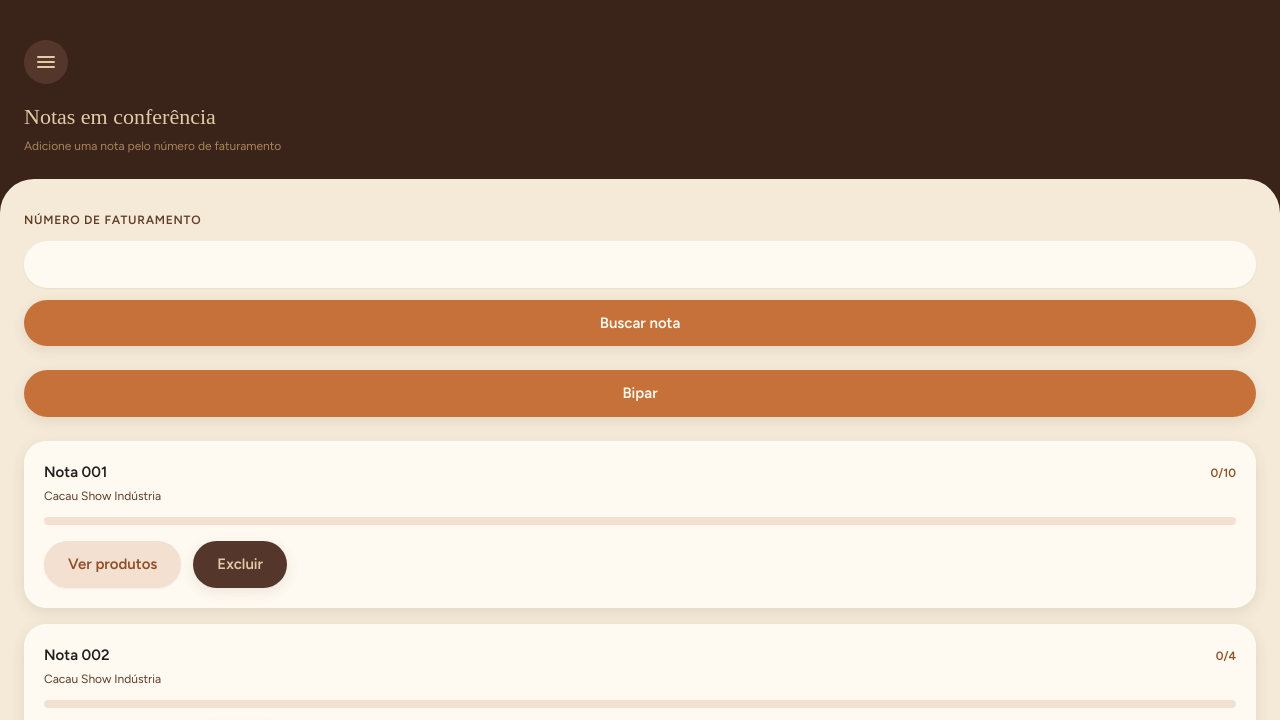
NotesQueueScreen › UT-042b: nota excluída some da fila mesmo se o recarregamento falhar
Check: the text "Nota 001" is shown, box [44, 460, 107, 483]
Click the button "Excluir": (240, 564) [193, 541, 287, 588]
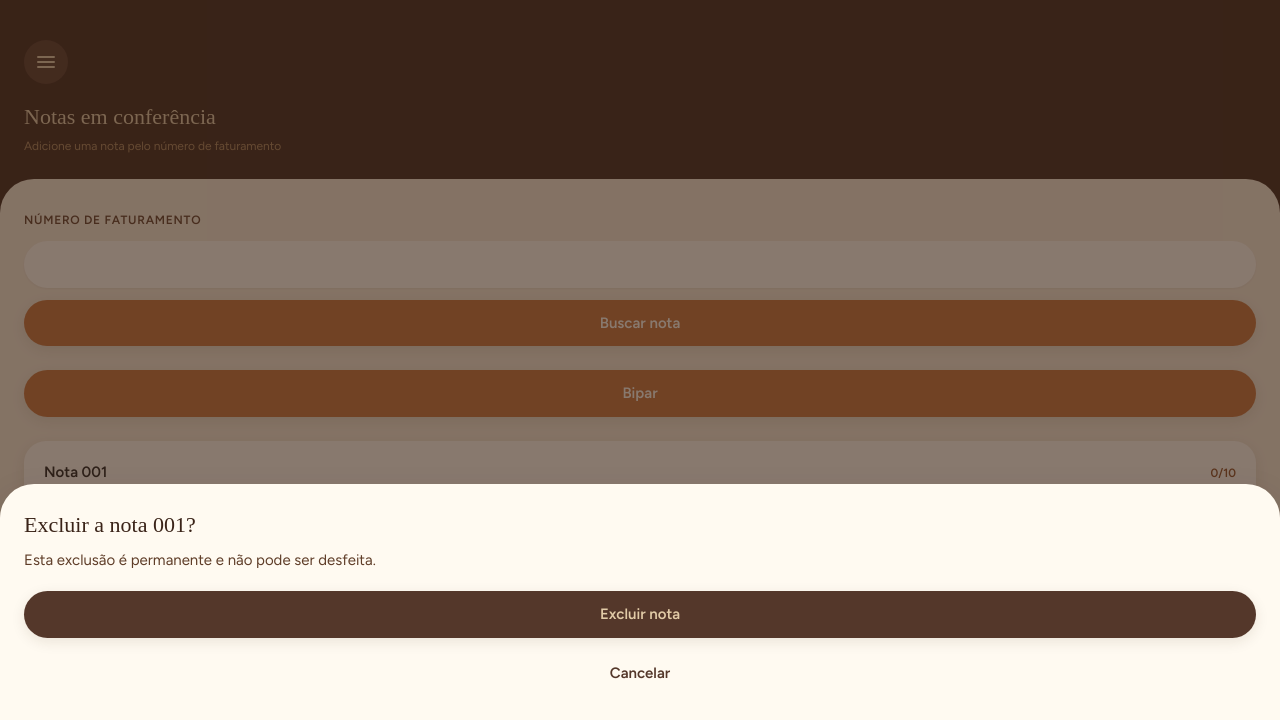
Click the button "Excluir nota": (640, 614) [24, 591, 1256, 638]
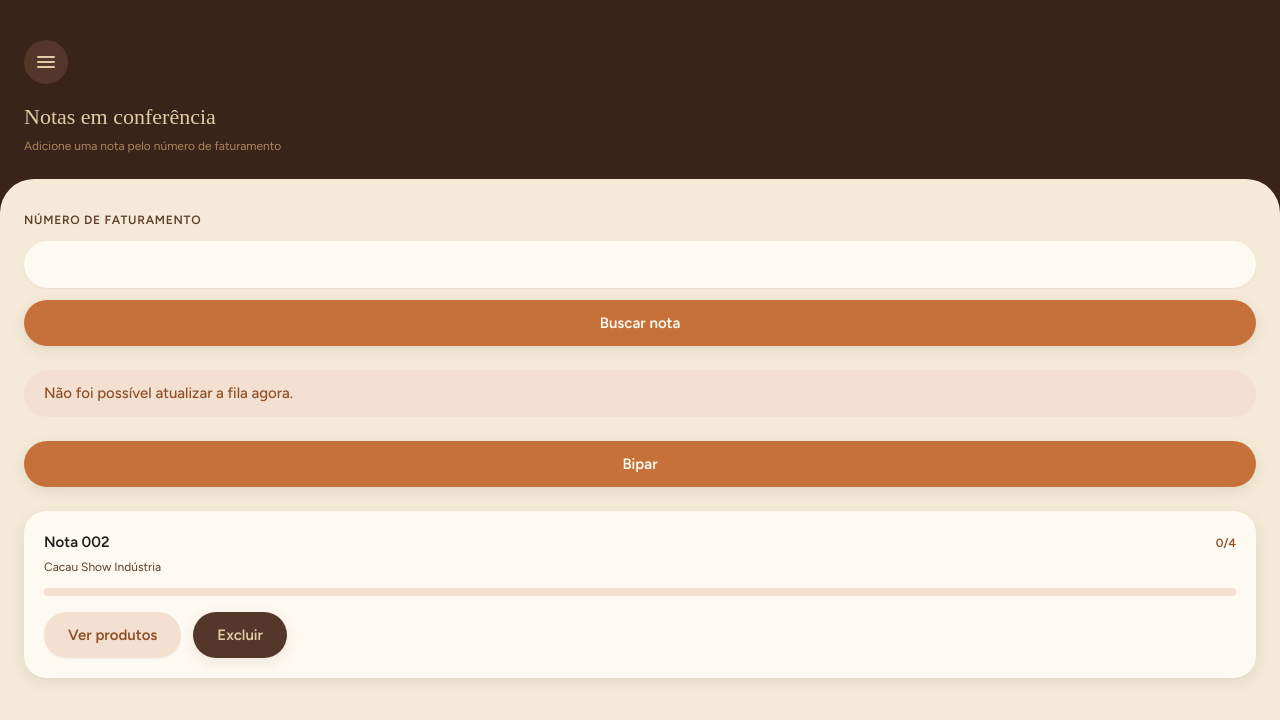
Check: the text "Nota 002" is shown, box [44, 531, 110, 554]
Check: the text "Não foi possível atualizar a fila agora." is shown, box [24, 370, 1256, 416]
Check: the text "Nota 001" is gone
